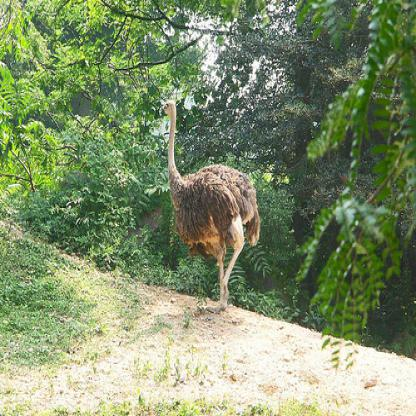bird: (157, 96, 261, 304)
